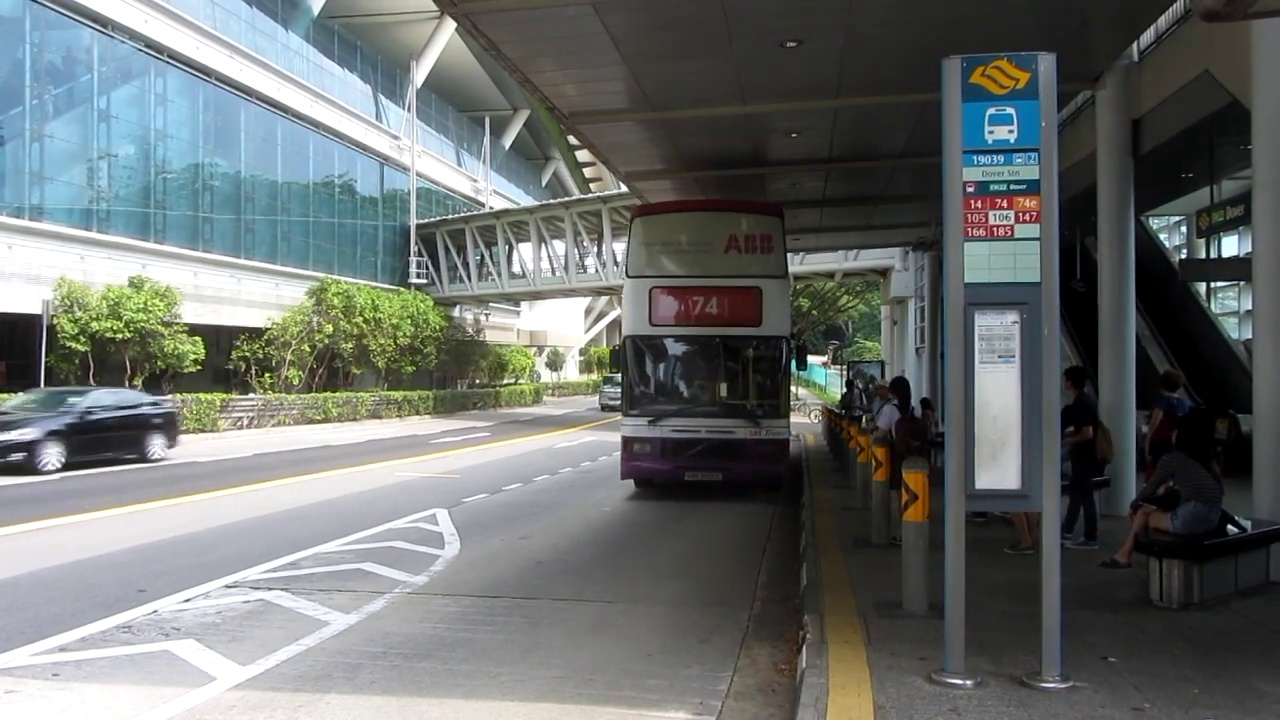bus panel: (646, 284, 765, 330)
